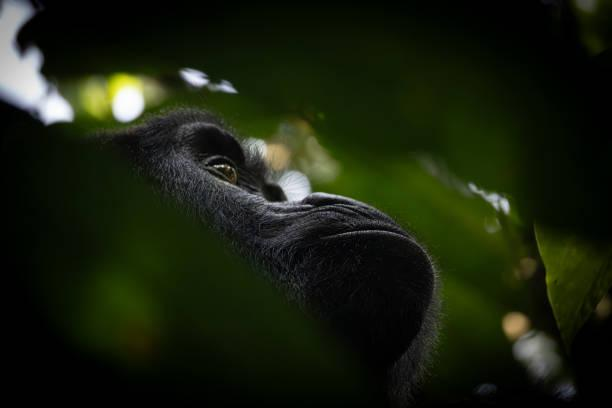gorille_Autres: (29, 42, 488, 408)
